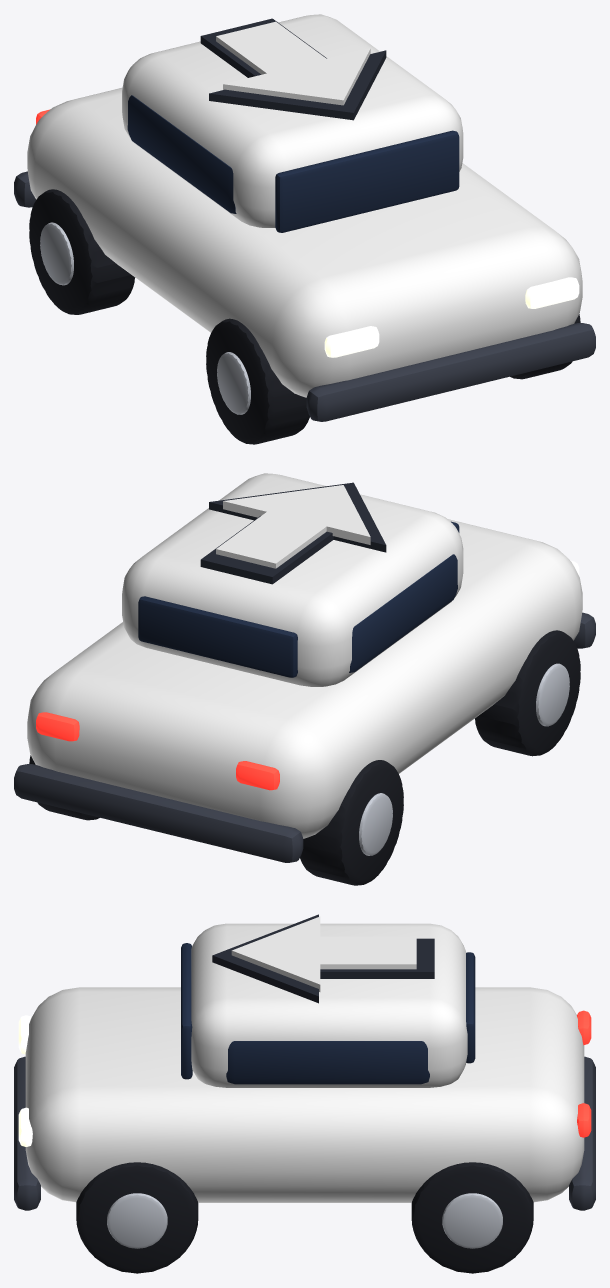
The model's file is Car.fbx.
The picture shows the model from 3 angles, top to bottom: view 1: azimuth 30°, elevation 25°; view 2: azimuth 150°, elevation 25°; view 3: azimuth 270°, elevation 25°; orthographic projection. The views are drawn at different scales.
Visible parts, largest first — view 1: Car, Arrow, Wheel_RL, Wheel_FL; view 2: Car, Arrow, Wheel_FL, Wheel_RL; view 3: Car, Wheel_FR, Wheel_RR, Arrow.
Part boxes in pixels (x1,y1,x2,y2): Car: (14, 14, 595, 421); Arrow: (200, 18, 386, 120); Wheel_RL: (29, 189, 135, 314); Wheel_FL: (206, 318, 309, 444); Car: (14, 473, 595, 862); Arrow: (200, 482, 386, 584); Wheel_FL: (475, 630, 580, 756); Wheel_RL: (300, 760, 403, 885); Car: (14, 923, 595, 1210); Wheel_FR: (76, 1162, 198, 1273); Wheel_RR: (411, 1162, 533, 1273); Arrow: (212, 914, 434, 1003).
Size of the model in its own units: 0.92 by 0.7224 by 1.51.
